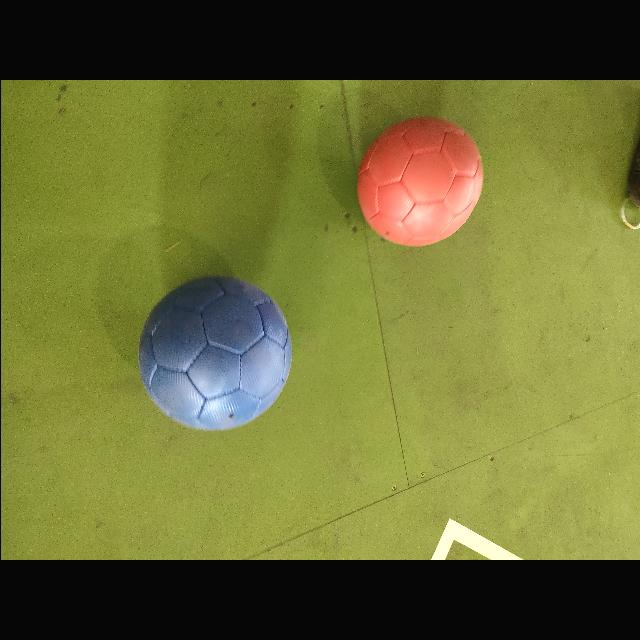B: (138, 277, 291, 431)
R: (356, 117, 481, 246)
